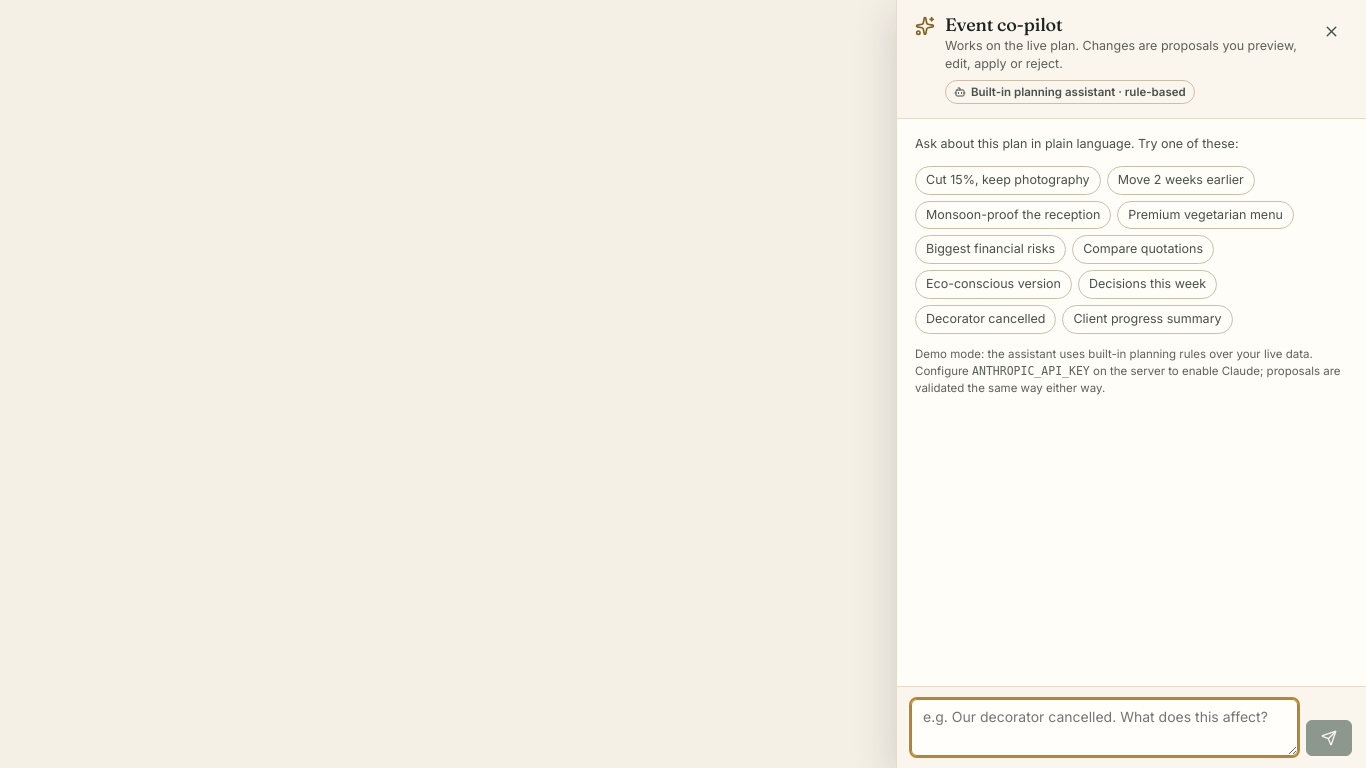
workspace views › Co-pilot: a rejected proposal leaves the plan untouched
Check: the text "Built-in planning assistant · rule-based" is shown, box [945,80,1195,104]
Click the button "Decorator cancelled".
click(986, 319)  # box [915,305,1056,334]
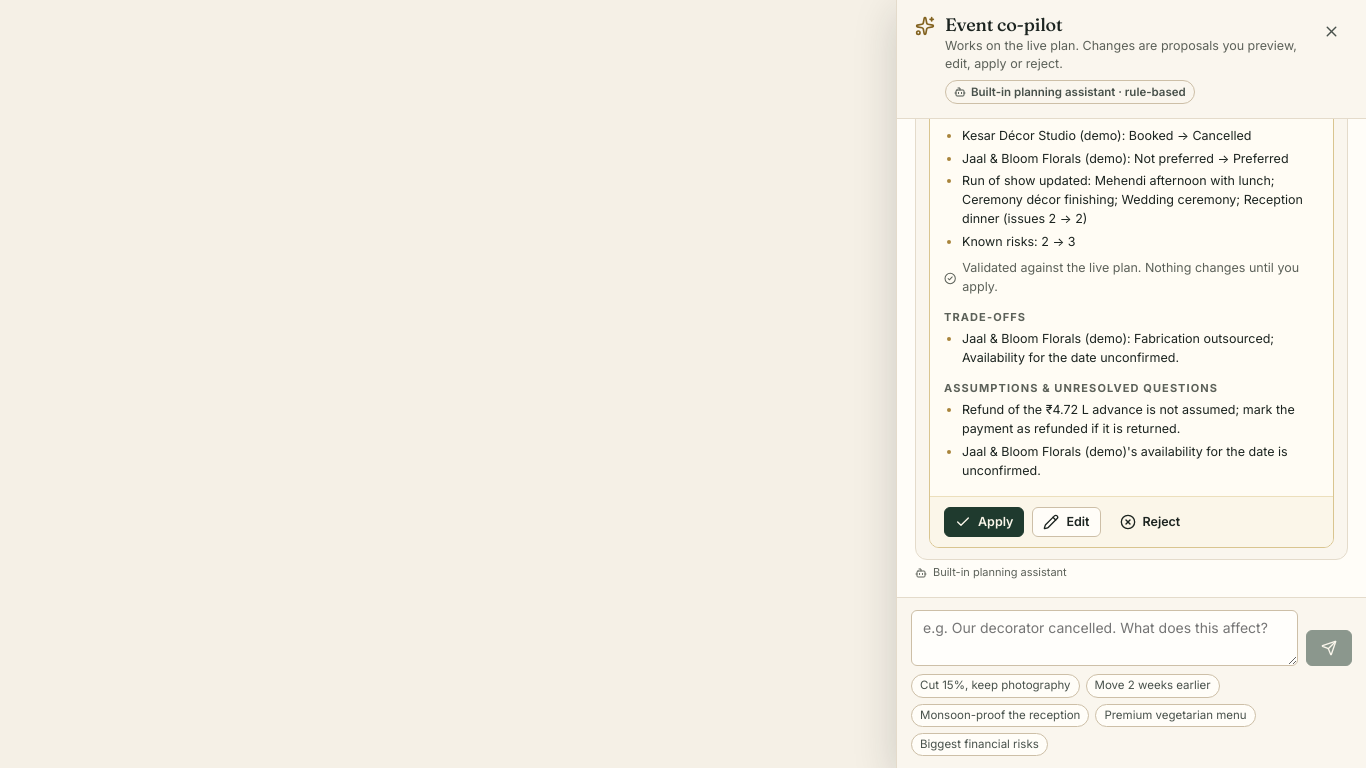
Click the button "Reject".
click(1150, 522)  # box [1108,507,1191,537]
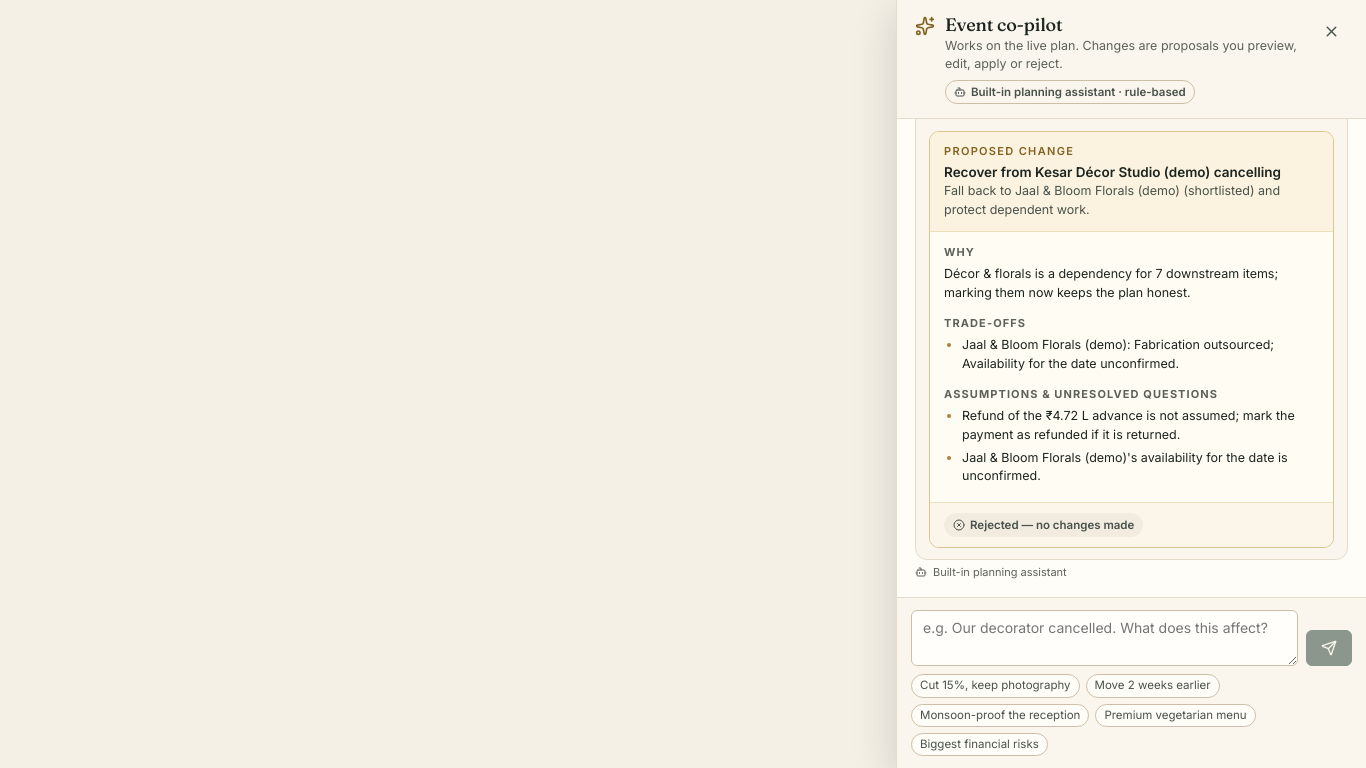
Check: the text "Rejected — no changes made" is shown, box [944,513,1143,537]
